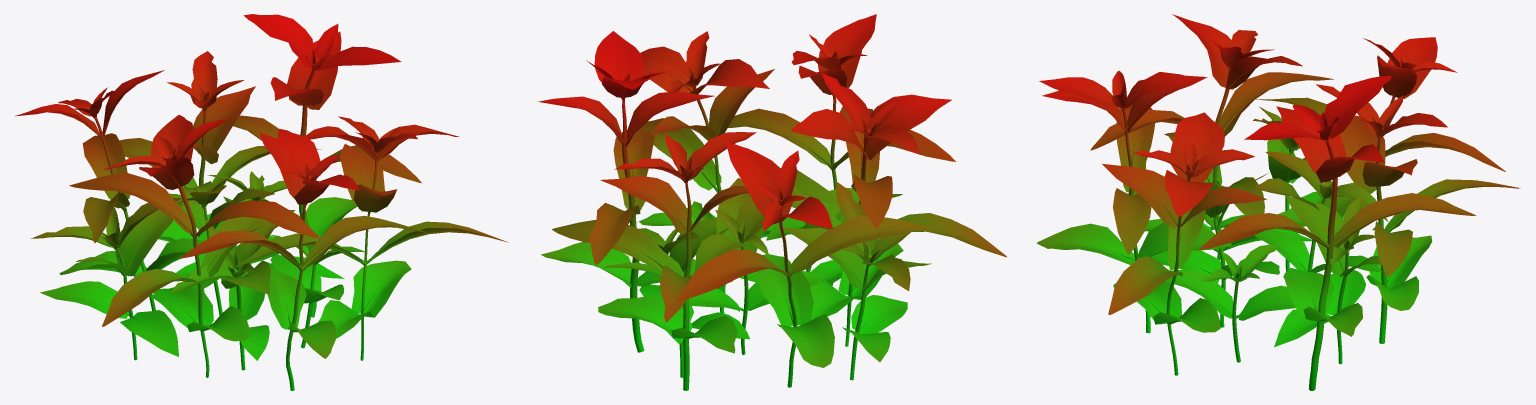
File: Var5_LOD0.fbx
3 views of the same model, side by side, from view 1: azimuth 30°, elevation 25°; view 2: azimuth 150°, elevation 25°; view 3: azimuth 270°, elevation 25° (orthographic). The views are drawn at different scales.
Parts seen in each view (by area): view 1: _s9to_Var5_LOD0; view 2: _s9to_Var5_LOD0; view 3: _s9to_Var5_LOD0.
Boxes of the visible parts, bbox=[...] form: _s9to_Var5_LOD0: bbox=[15, 14, 508, 390]; _s9to_Var5_LOD0: bbox=[538, 14, 1006, 390]; _s9to_Var5_LOD0: bbox=[1036, 14, 1520, 390].
Bounding box in the file's own units: 30.68 × 21.89 × 32.19.
